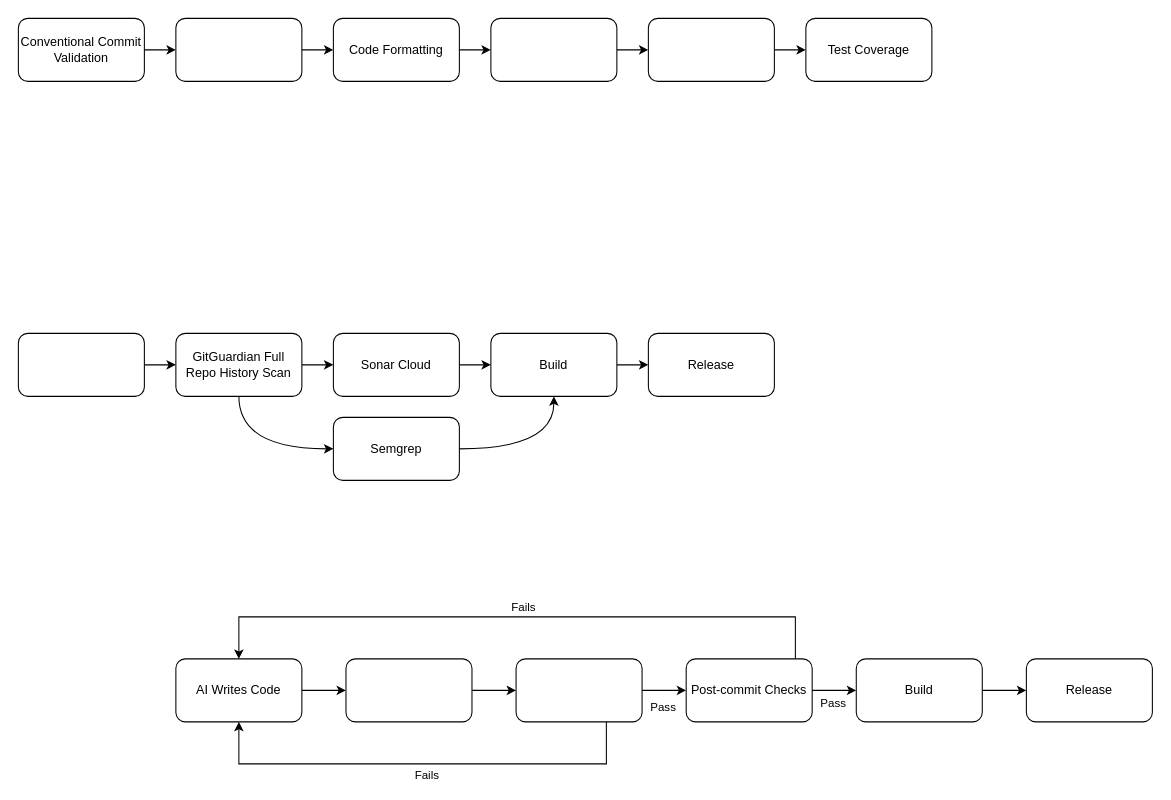
Image size: 1171x800. Some labels were removed from this diagram. The centre of each missing label's shape, as x and y in pixels:
"Basic File Hygiene" goes at point (238, 49).
"Code Linting" goes at point (553, 49).
"Commits" goes at point (408, 690).
"Lint and Test" goes at point (80, 364).
"Pre-commit Checks" goes at point (578, 690).
"Secret Detection with GitGuardian" goes at point (710, 49).
